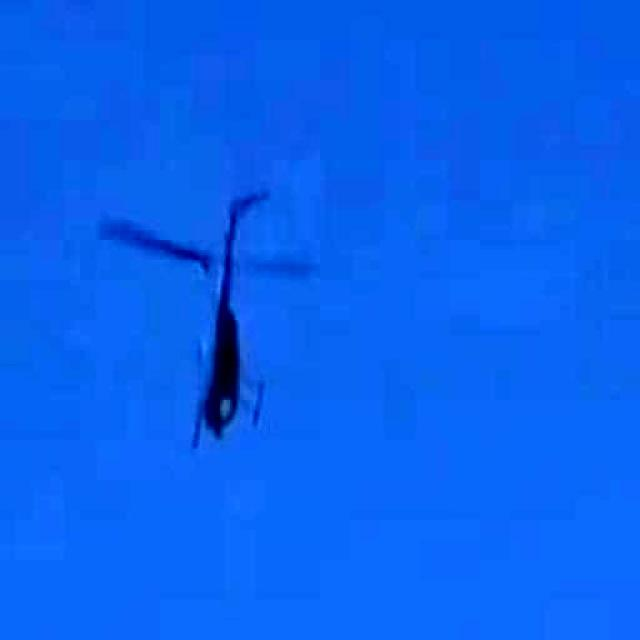drone: (95, 168, 332, 479)
